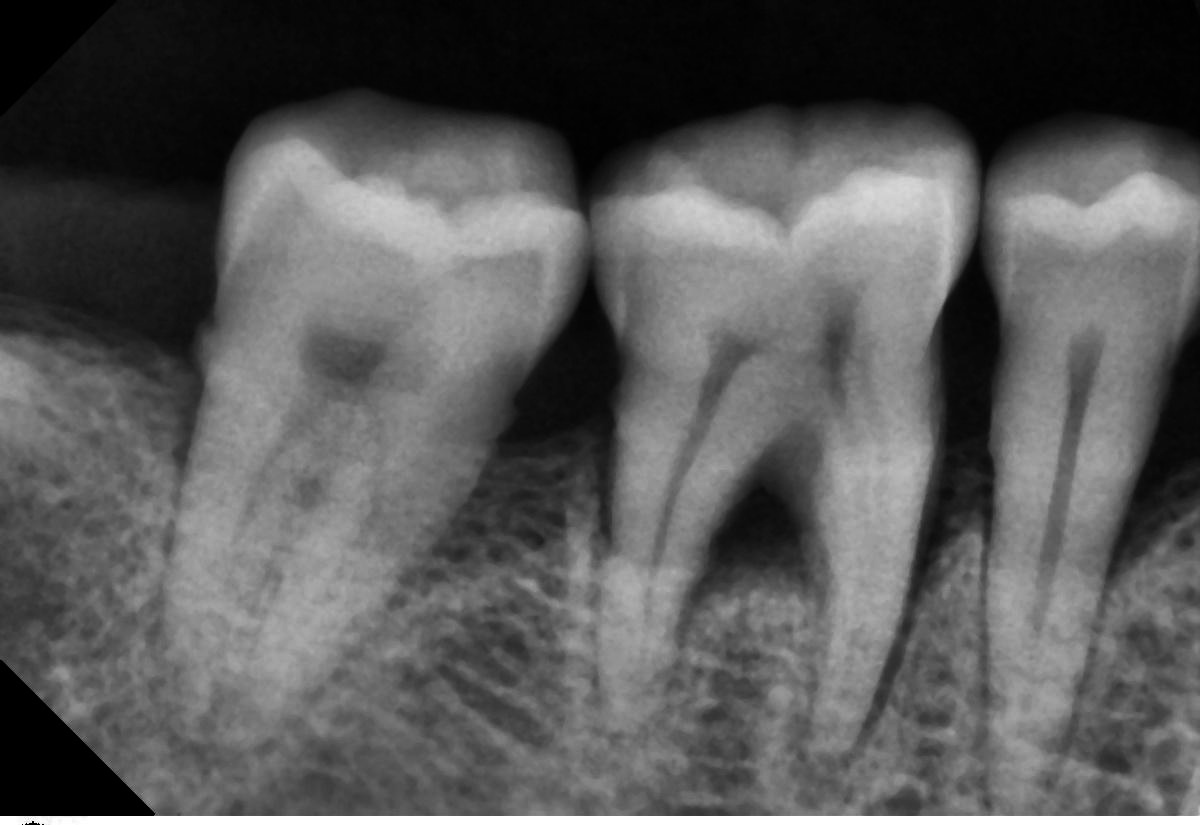Individual Tooth: (166, 91, 588, 748), (591, 103, 980, 755), (982, 115, 1200, 807)
